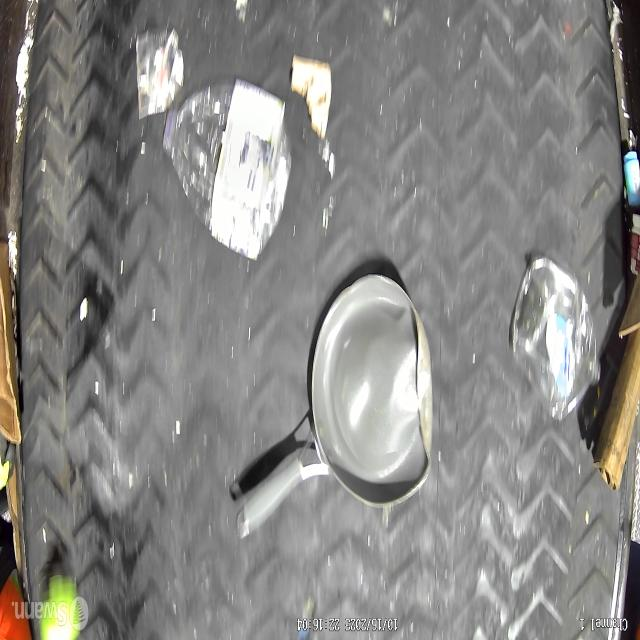can: (136, 28, 184, 121)
plastic_bottle: (160, 85, 291, 261), (511, 257, 601, 420)
